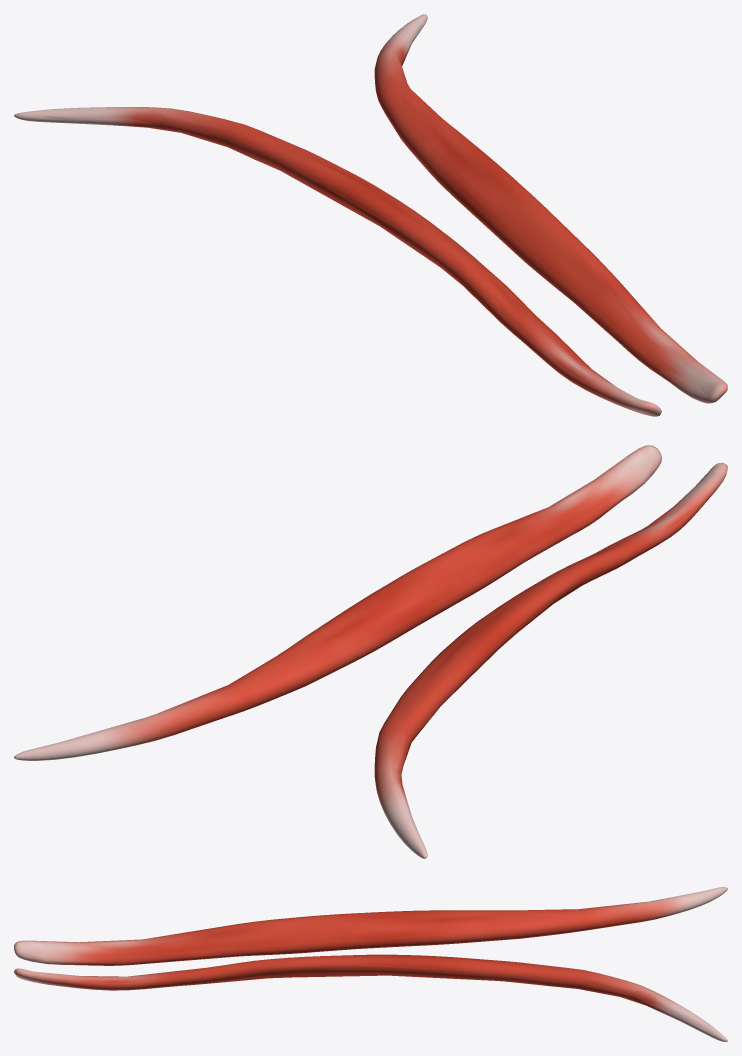
Rendered from Psoas minor.fbx.
3 views of the same model, one above another, from view 1: azimuth 30°, elevation 25°; view 2: azimuth 150°, elevation 25°; view 3: azimuth 270°, elevation 25° (orthographic). The views are drawn at different scales.
Visible parts, largest first — view 1: Psoas minor, Psoas minor low; view 2: Psoas minor, Psoas minor low; view 3: Psoas minor, Psoas minor low.
Boxes of the visible parts, x1,y1,x2,y2 form: Psoas minor: (14,14,727,416); Psoas minor low: (44,22,727,410); Psoas minor: (14,445,727,858); Psoas minor low: (55,451,723,837); Psoas minor: (14,887,727,1041); Psoas minor low: (14,891,707,1031).
Bounding box in the file's own units: 23.52 × 2.99 × 46.4.
1 material, 1 textured.
